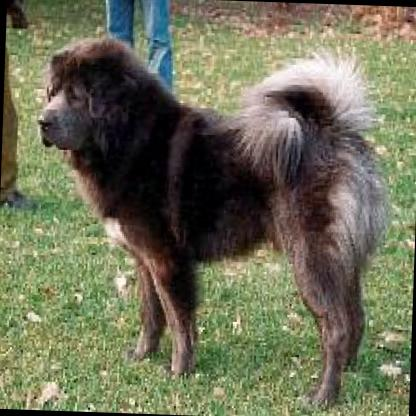Tibetan_mastiff: (27, 3, 397, 396)
